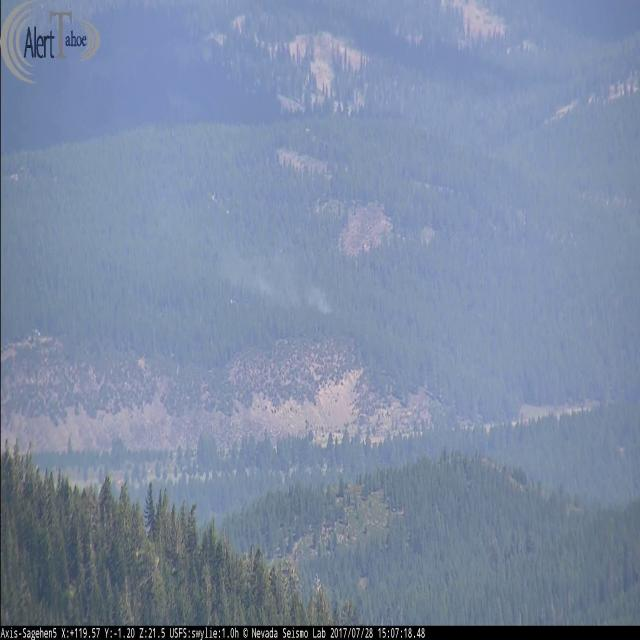smoke: (214, 242, 334, 316)
